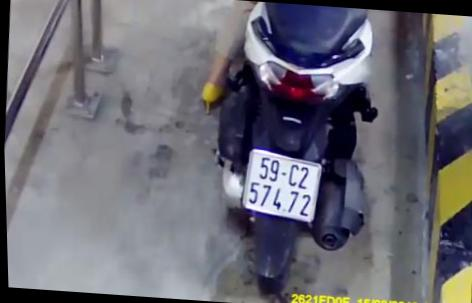LP: (239, 147, 324, 225)
